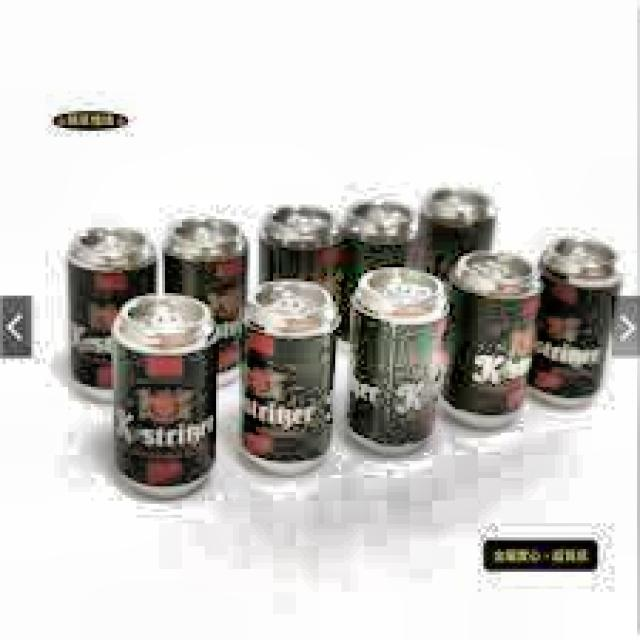can: (105, 290, 220, 510), (347, 261, 450, 467), (238, 274, 340, 482), (442, 244, 540, 440), (62, 221, 164, 408), (530, 234, 628, 424), (158, 212, 260, 391), (255, 195, 345, 347), (340, 191, 421, 334), (417, 180, 507, 275)
